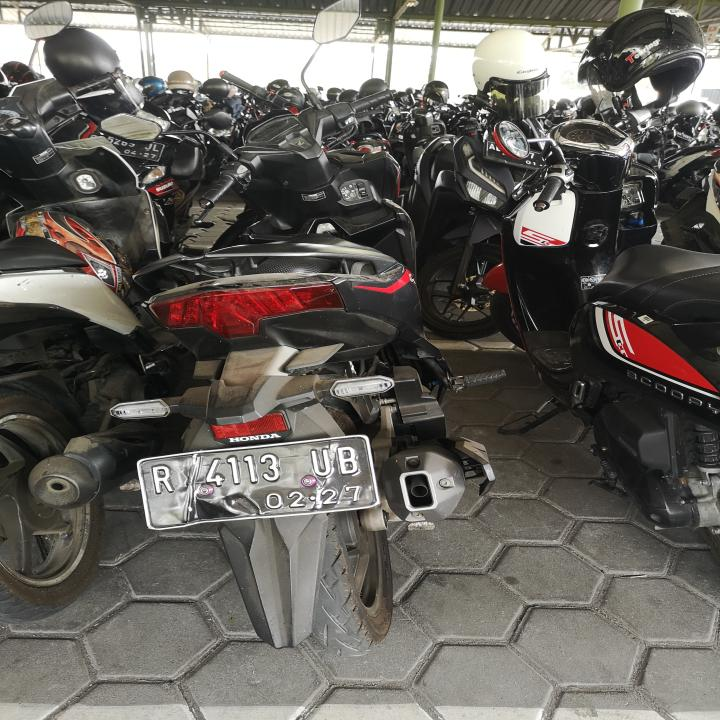plate: (135, 435, 380, 532), (88, 133, 165, 162)
